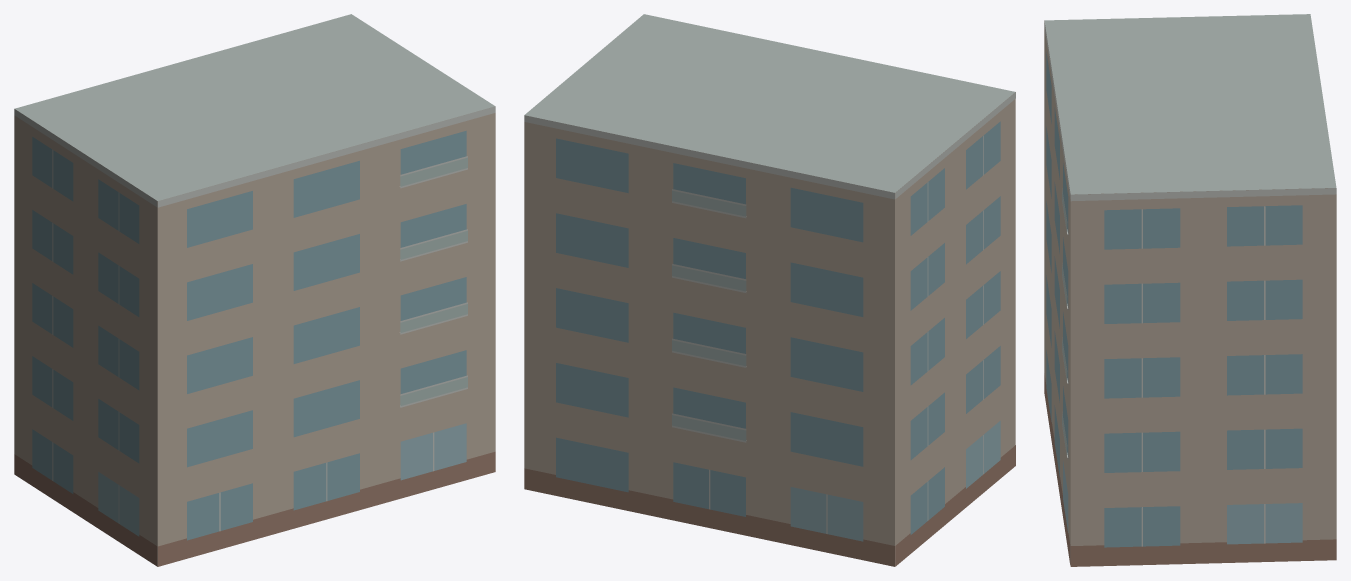
Rendered from survey-upis-32890799.glb.
3 views of the same model, side by side, from view 1: azimuth 30°, elevation 25°; view 2: azimuth 150°, elevation 25°; view 3: azimuth 270°, elevation 25° (orthographic). The views are drawn at different scales.
Parts seen in each view (by area): view 1: survey-upis-32890799.tmp; view 2: survey-upis-32890799.tmp; view 3: survey-upis-32890799.tmp.
Part boxes in pixels (left/top/right/bottom): survey-upis-32890799.tmp: left=14, top=14, right=495, bottom=566; survey-upis-32890799.tmp: left=524, top=14, right=1015, bottom=566; survey-upis-32890799.tmp: left=1044, top=14, right=1336, bottom=566.
Bounding box in the file's own units: 14.26 × 13.7 × 9.75.
